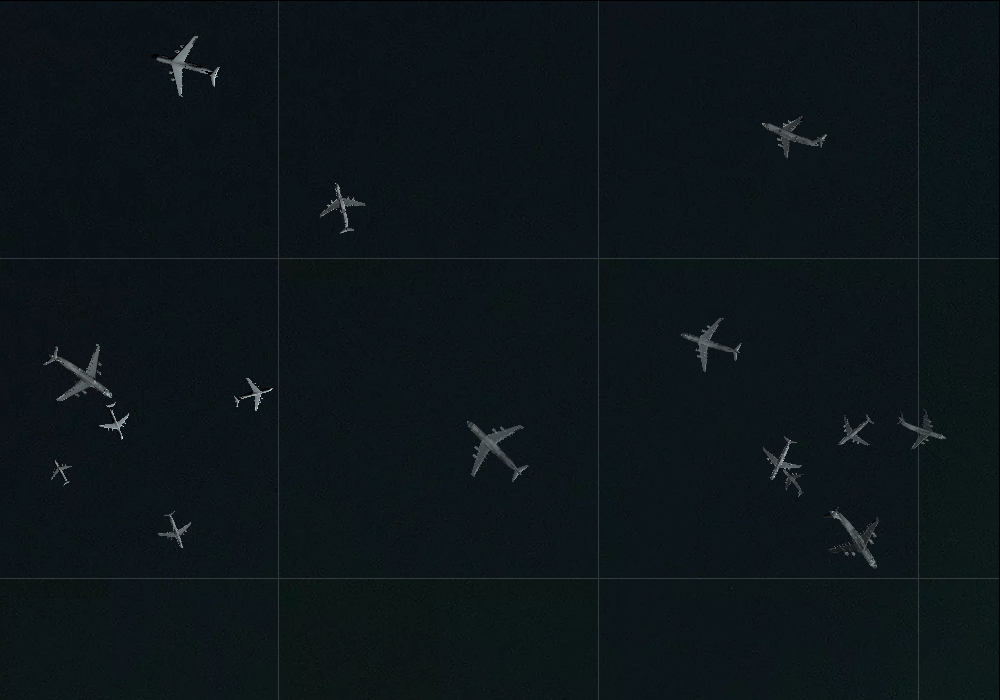plane: (442, 396, 547, 501), (27, 323, 133, 427), (803, 488, 903, 589), (141, 24, 227, 107), (752, 93, 835, 172), (672, 306, 749, 380), (889, 397, 954, 459), (311, 176, 371, 238), (751, 429, 810, 489), (826, 402, 884, 460), (91, 396, 139, 446), (228, 371, 277, 418), (151, 506, 198, 554), (771, 460, 814, 504), (41, 453, 78, 491)
